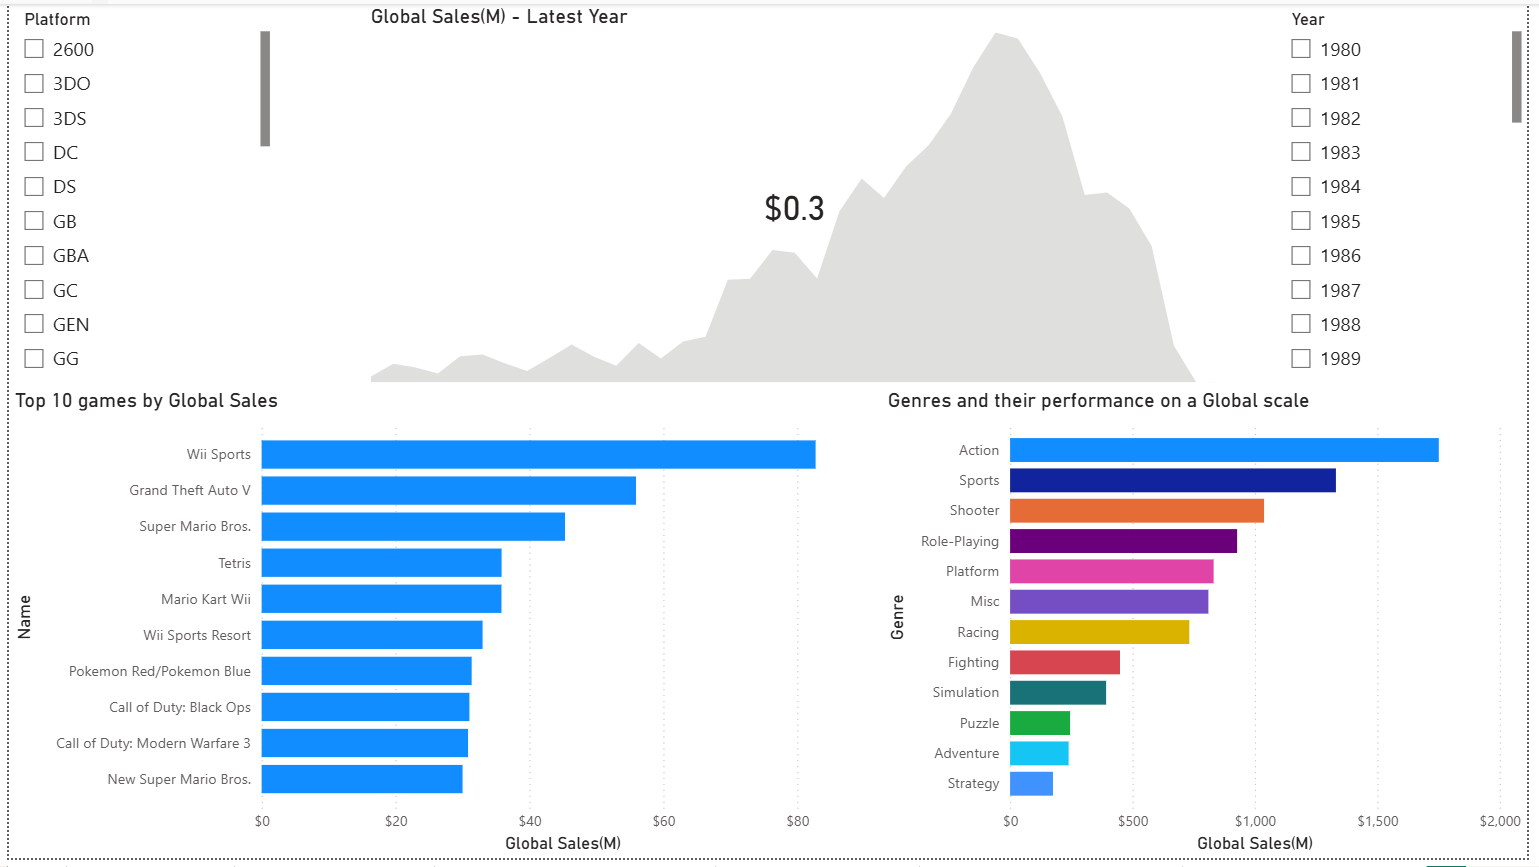

What the dashboard file says about the page in this screenshot:
{"tool":"powerbi","page":{"name":"KPI","canvas":[1280,720],"ordinal":0},"visuals":[{"type":"clusteredBarChart","title":"Top 10 games by Global Sales","fields":{"Y":["Sum(vgsales.Global_Sales)"],"Category":["vgsales.Name"]},"box":[0,323.7,736,396.3],"z":0},{"type":"barChart","title":"Genres and their performance on a Global scale","fields":{"Category":["vgsales.Genre"],"Series":["vgsales.Genre"],"Y":["Sum(vgsales.Global_Sales)"]},"box":[736,323.7,543.8,396.3],"z":1000},{"type":"slicer","fields":{"Values":["vgsales.Platform"]},"box":[0,0,224.7,323.9],"z":2000},{"type":"slicer","fields":{"Values":["vgsales.Year"]},"box":[1068,0,212,323.9],"z":3000},{"type":"kpi","title":"Global Sales(M) - Latest Year","fields":{"Indicator":["Sum(vgsales.Global_Sales)"],"TrendLine":["vgsales.Year"]},"box":[300.5,0,724.6,323.9],"z":4000}]}

Visuals, with their boxes in screenshot pixels (x1, y1, x2, y2), scaled from the page's 1280x720 canvas onto the 1539x867 screenshot:
"Top 10 games by Global Sales" clusteredBarChart: pyautogui.locateOnScreen(0, 390, 885, 866)
"Genres and their performance on a Global scale" barChart: pyautogui.locateOnScreen(885, 390, 1538, 866)
slicer - vgsales.Platform: pyautogui.locateOnScreen(0, 0, 270, 390)
slicer - vgsales.Year: pyautogui.locateOnScreen(1284, 0, 1538, 390)
"Global Sales(M) - Latest Year" kpi: pyautogui.locateOnScreen(361, 0, 1233, 390)
